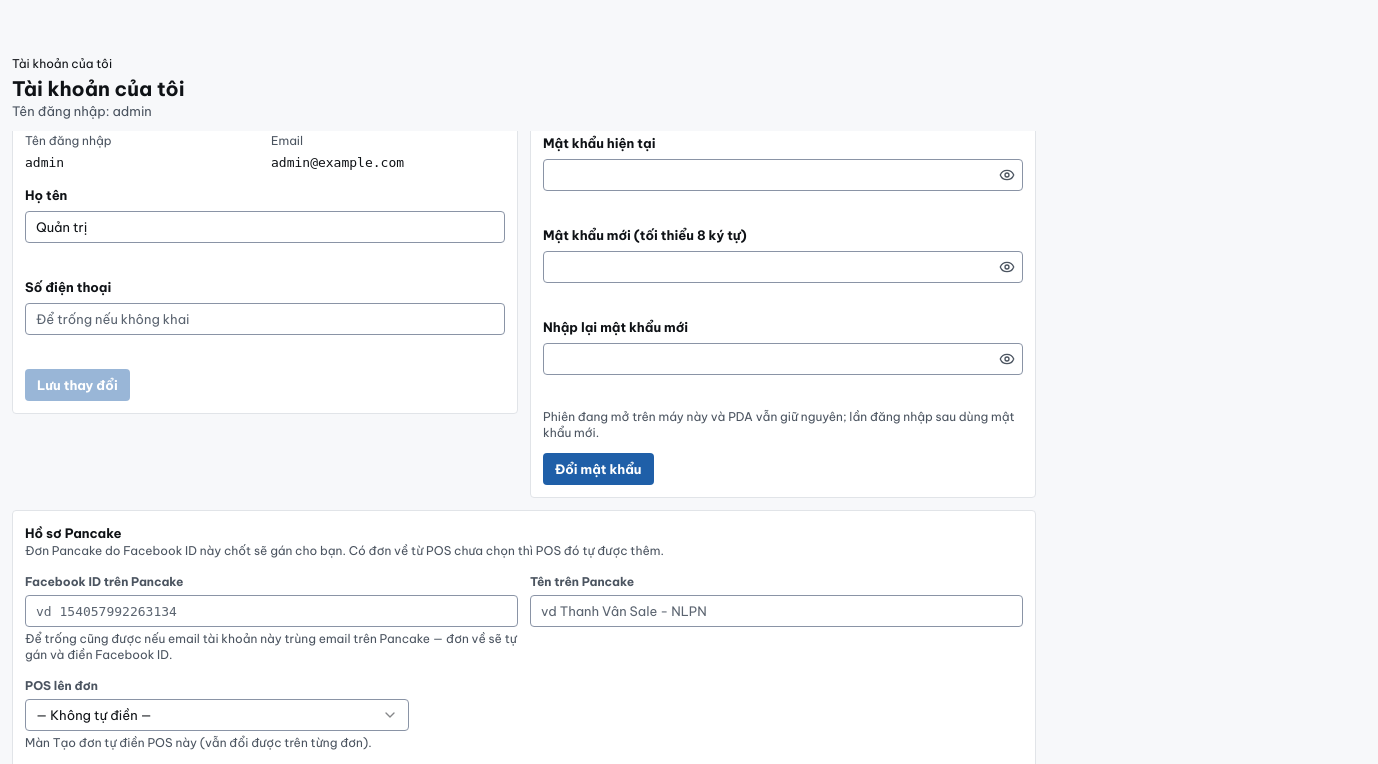
Scenario: MeScreen — hồ sơ + mật khẩu › đổi mật khẩu: nhập lại không khớp chặn ở web; sai mật khẩu hiện tại → lỗi tại ô
Expected: the field labelled "Họ tên" is shown, [25, 211, 505, 243]
Type "cu" into the password field labelled "Mật khẩu hiện tại" at x=783, y=175, box [543, 159, 1023, 191]
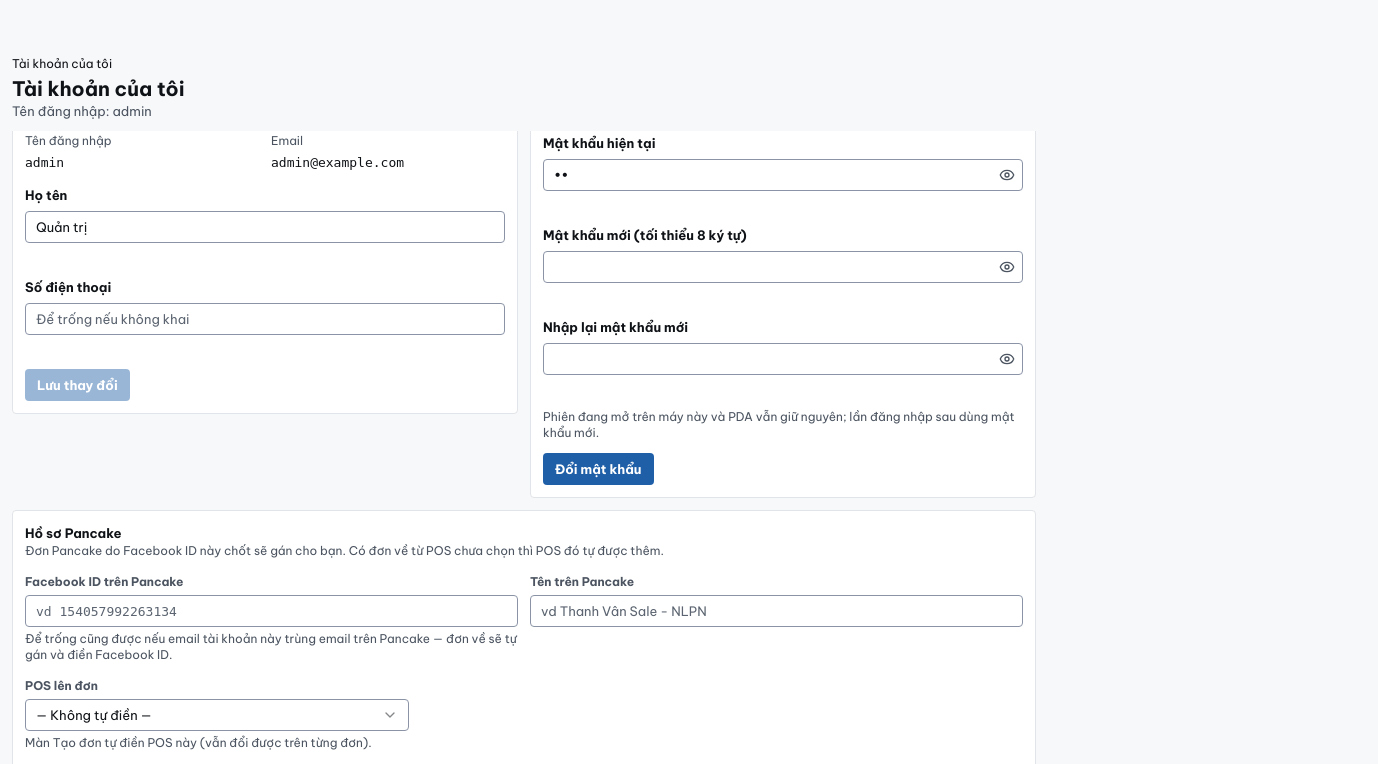
Type "mat-khau-moi" into the password field labelled "Mật khẩu mới (tối thiểu 8 ký tự)" at x=783, y=267, box [543, 251, 1023, 283]
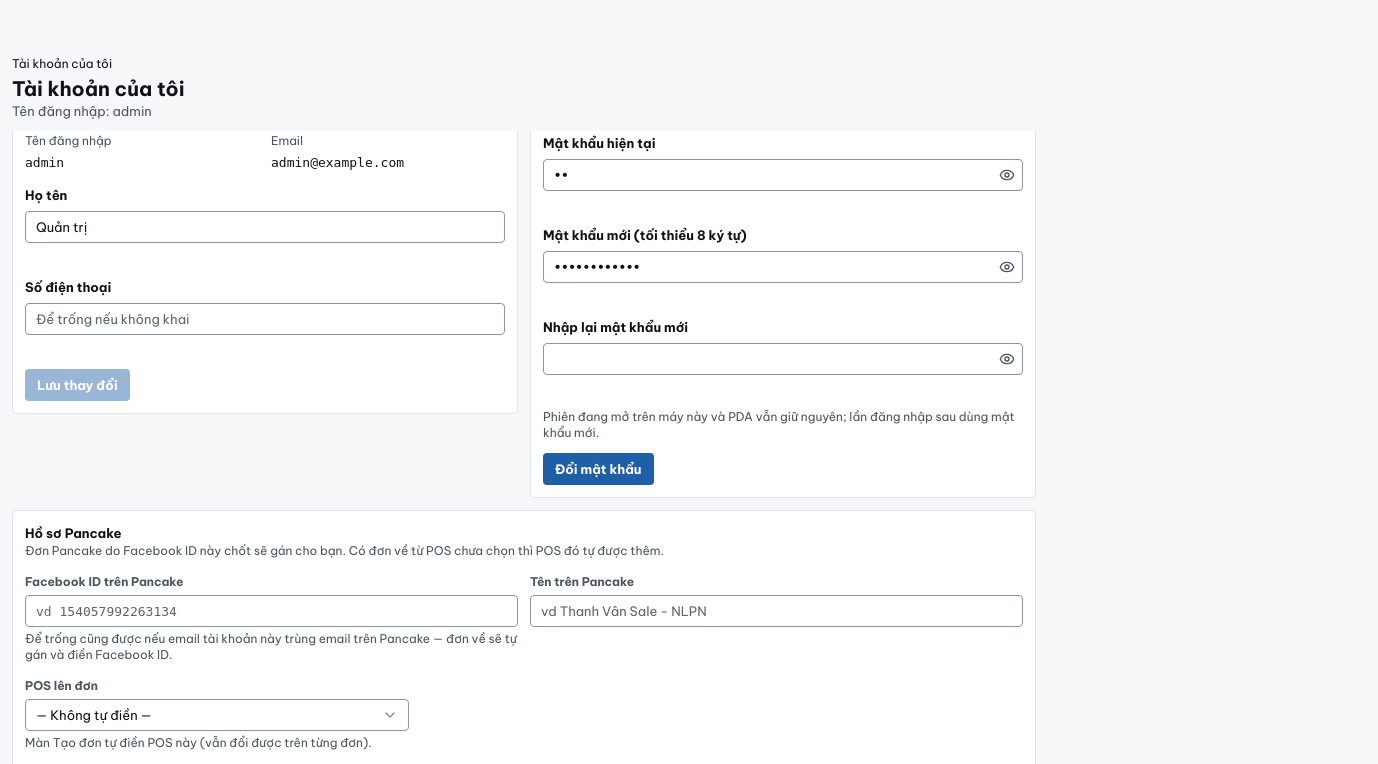
Type "khac-han" into the password field labelled "Nhập lại mật khẩu mới" at x=783, y=359, box [543, 343, 1023, 375]
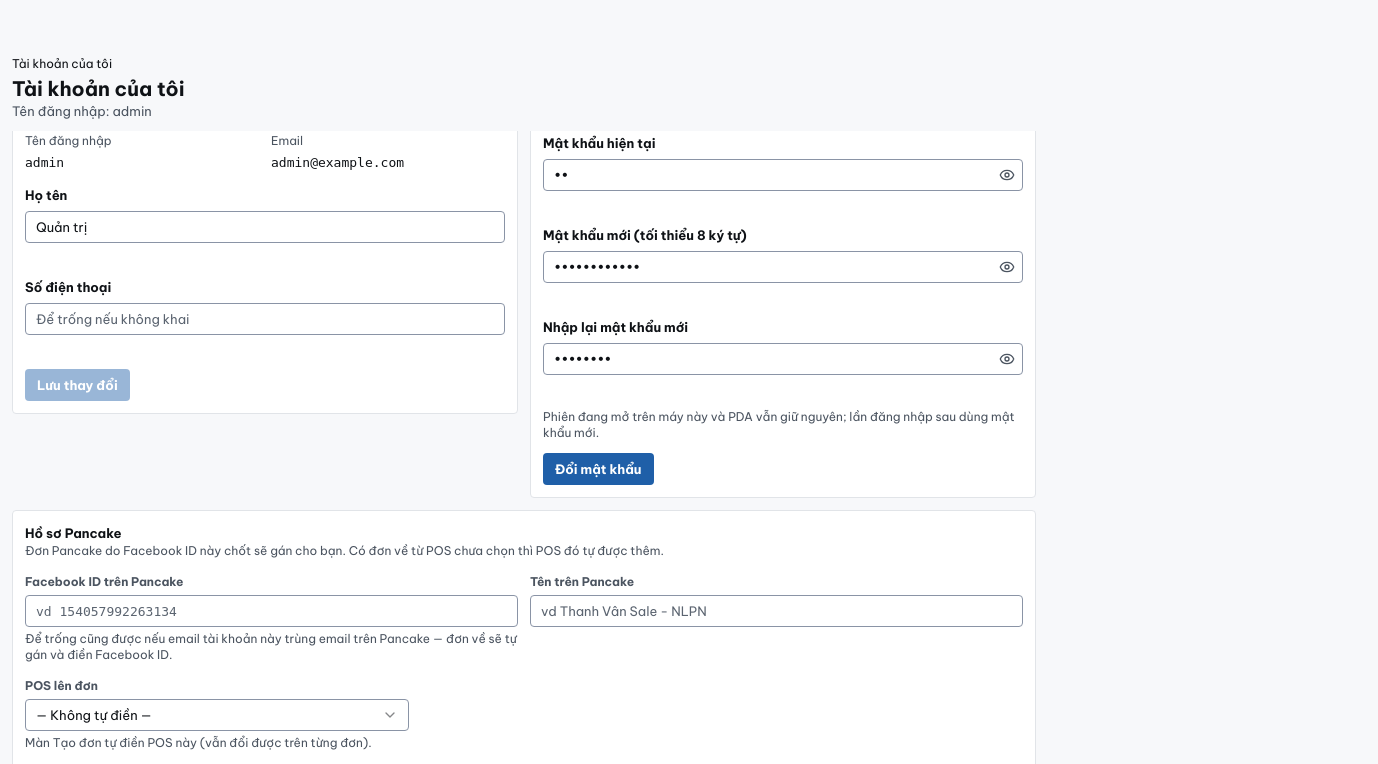
Click the button "Đổi mật khẩu" at x=598, y=469, box [543, 453, 654, 485]
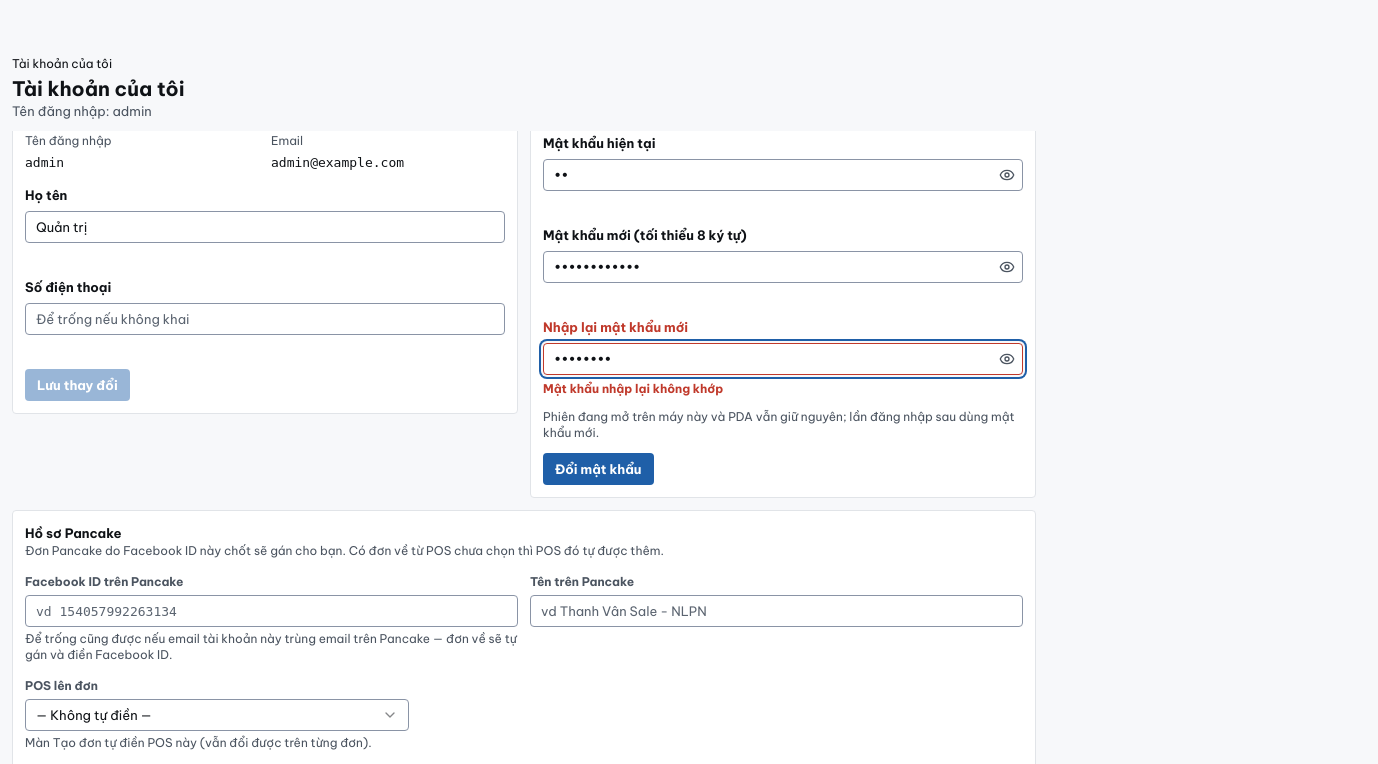
Expected: the text "Mật khẩu nhập lại không khớp" is shown, [543, 381, 723, 396]
Type "mat-khau-moi" into the password field labelled "Nhập lại mật khẩu mới" at x=783, y=359, box [543, 343, 1023, 375]
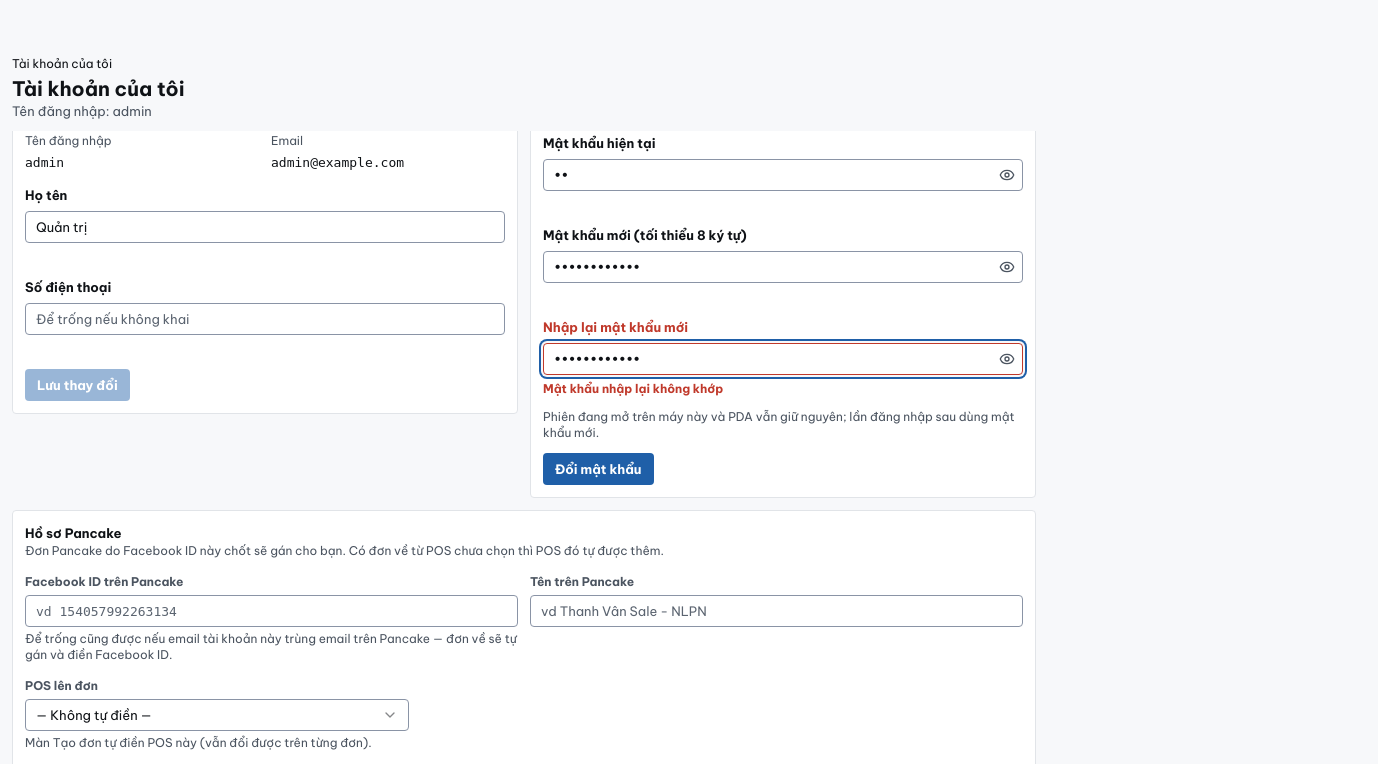
Click the button "Đổi mật khẩu" at x=598, y=469, box [543, 453, 654, 485]
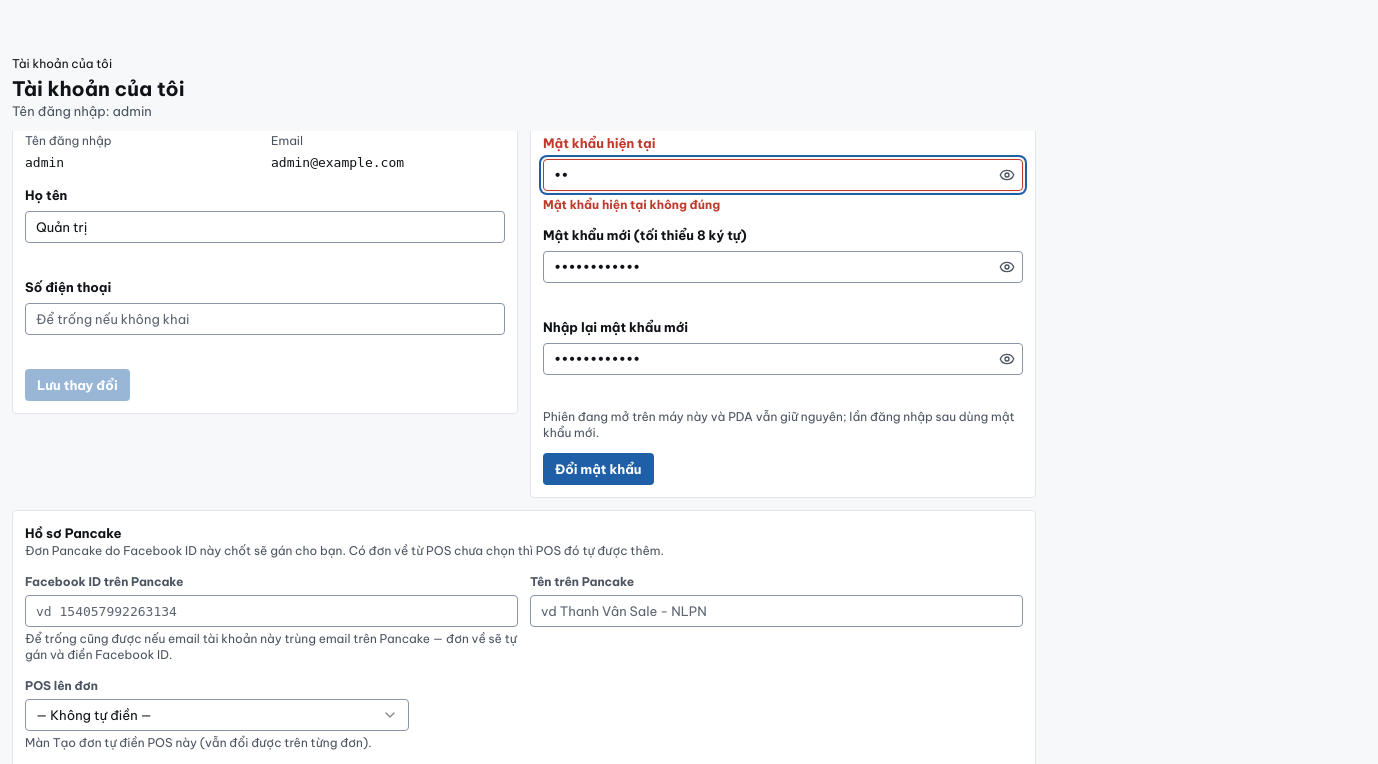
Expected: the text "Mật khẩu hiện tại không đúng" is shown, [543, 197, 720, 212]
